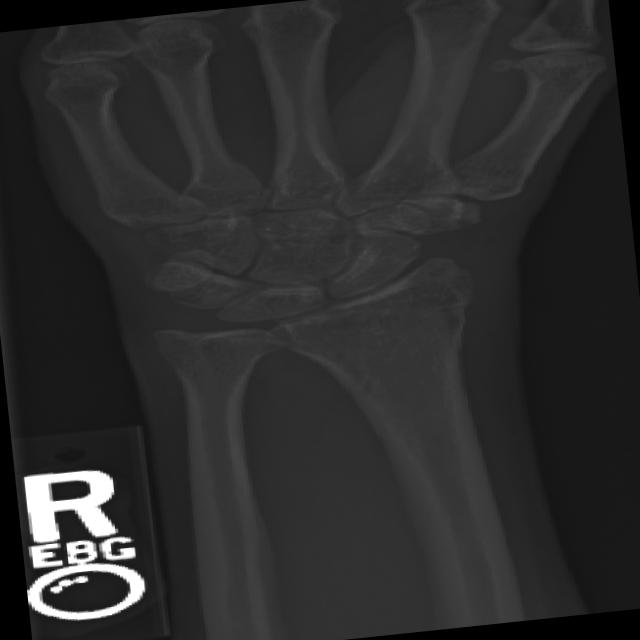wrist positive: (388, 268, 512, 348), (425, 190, 507, 245)
